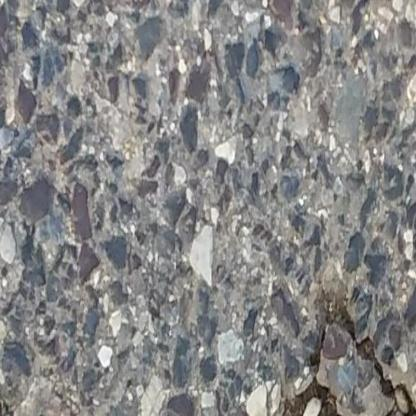Cracks: (238, 302, 388, 416), (360, 382, 416, 416), (0, 396, 23, 416)
